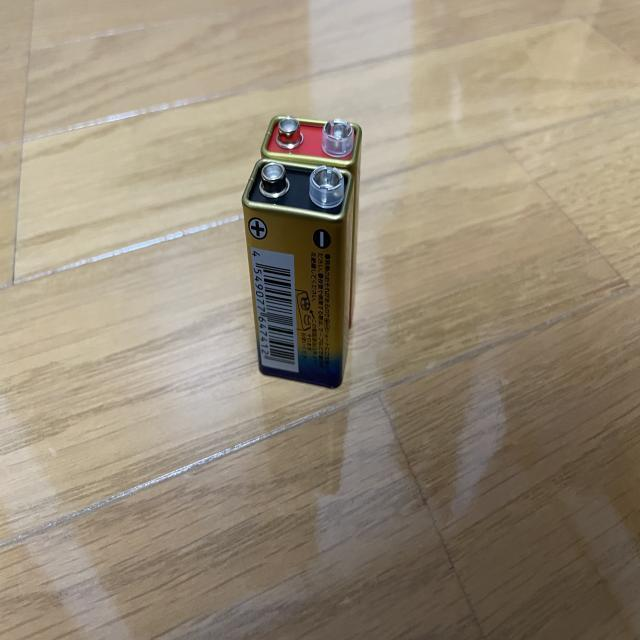9V: (241, 156, 362, 390), (261, 114, 363, 330)
